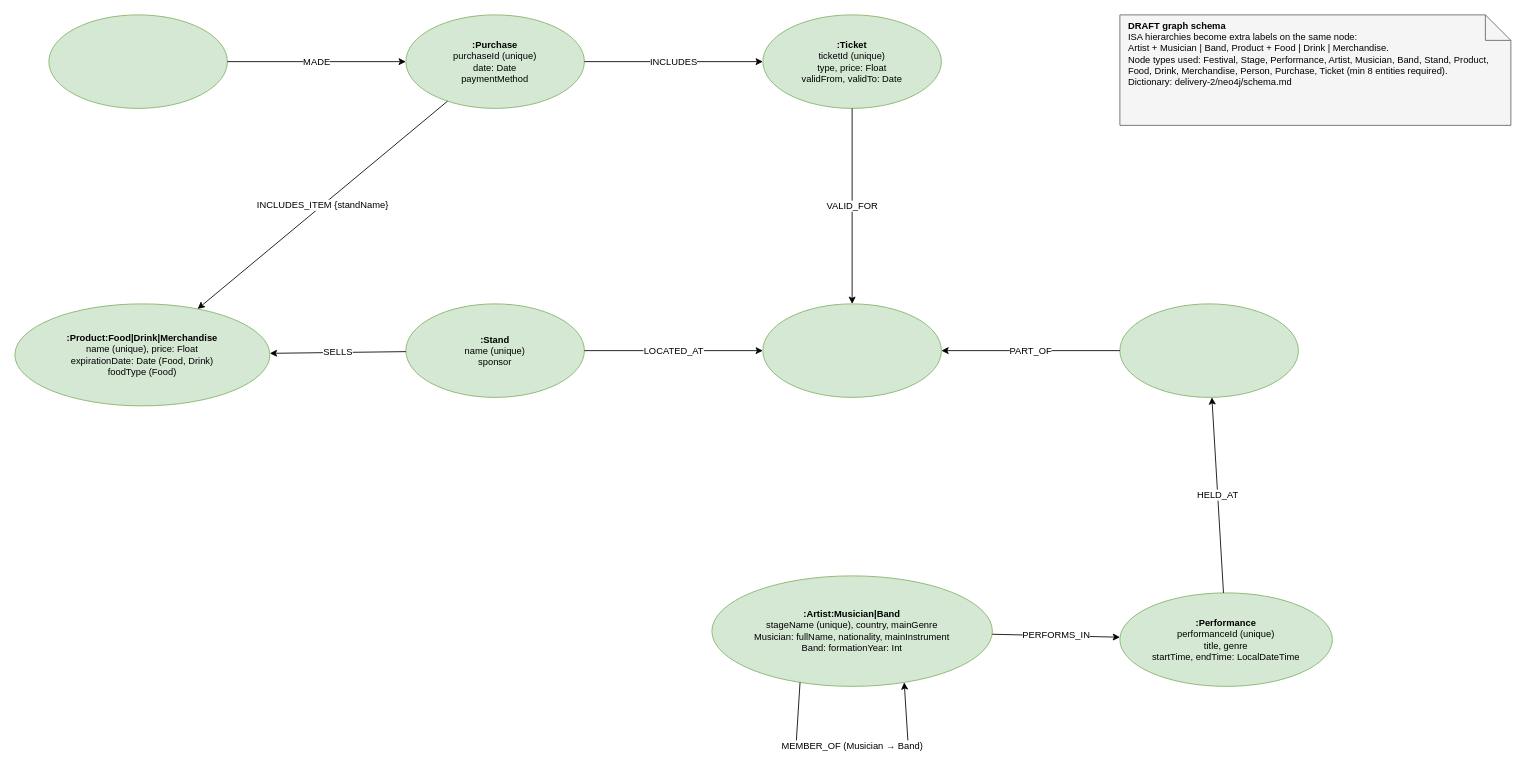
The diagram is 1526 pixels wide and 768 high, and some of its shapes have lost their labels. The centre of each missing label's shape, as x and y in pixels:
":Festival name (unique) location startDate, endDate: Date" belongs at pixel 851 350.
":Person email (unique) fullName phone" belongs at pixel 137 61.
":Stage code (unique) name, maxCapacity: Int locationDescription" belongs at pixel 1208 350.
